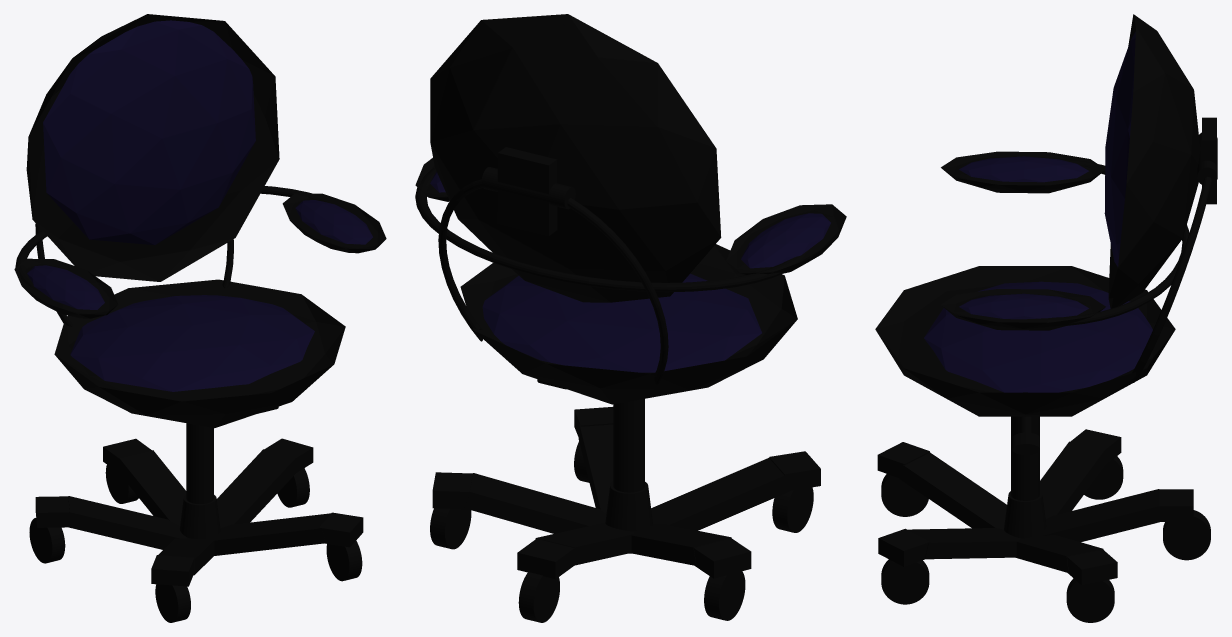
The model's file is wheelychair.fbx.
The picture shows the model from 3 angles, left to right: view 1: azimuth 30°, elevation 25°; view 2: azimuth 150°, elevation 25°; view 3: azimuth 270°, elevation 25°; orthographic projection. The views are drawn at different scales.
Visible parts, largest first — view 1: Icosphere.002, Cube.004, Icosphere.001, Icosphere.003, Icosphere, Cylinder, Icosphere.006, Icosphere.005, Icosphere.004, Icosphere.007, Cylinder.001, Cylinder.003 (+6 smaller); view 2: Icosphere.003, Cube.004, Icosphere.001, Icosphere, Cube, Torus, Torus.001, Icosphere.006, Cylinder, Icosphere.007, Cylinder.001, Cylinder.004 (+4 smaller); view 3: Cube.004, Icosphere.003, Icosphere.001, Icosphere, Icosphere.002, Icosphere.007, Icosphere.004, Icosphere.006, Icosphere.005, Torus.001, Cylinder.005, Cylinder.006 (+9 smaller).
Boxes of the visible parts, x1,y1,x2,y2 form: Icosphere.002: (43,20,255,245); Cube.004: (35,438,363,586); Icosphere.001: (70,295,314,391); Icosphere.003: (26,14,279,281); Icosphere: (54,279,345,428); Cylinder: (186,423,213,503); Icosphere.006: (27,265,104,309); Icosphere.005: (295,200,372,244); Icosphere.004: (282,193,386,253); Icosphere.007: (14,258,118,318); Cylinder.001: (180,495,220,539); Cylinder.003: (29,518,65,563); Icosphere.003: (430,14,721,302); Cube.004: (432,407,820,579); Icosphere.001: (482,273,761,372); Icosphere: (460,244,797,404); Cube: (497,147,557,235); Torus: (415,167,809,292); Torus.001: (438,179,668,384); Icosphere.006: (741,213,830,268); Cylinder: (613,399,644,492); Icosphere.007: (726,204,846,274); Cylinder.001: (605,481,652,553); Cylinder.004: (518,572,559,622); Cube.004: (877,429,1193,585); Icosphere.003: (1108,14,1200,308); Icosphere.001: (924,281,1152,392); Icosphere: (875,266,1175,416); Icosphere.002: (1104,32,1135,266); Icosphere.007: (941,151,1105,193); Icosphere.004: (941,289,1105,330); Icosphere.006: (959,156,1088,182); Icosphere.005: (959,293,1088,319); Torus.001: (1130,176,1211,382); Cylinder.005: (881,559,929,604); Cylinder.006: (1066,578,1114,622).
Size of the model in its own units: 391 by 566 by 332.
